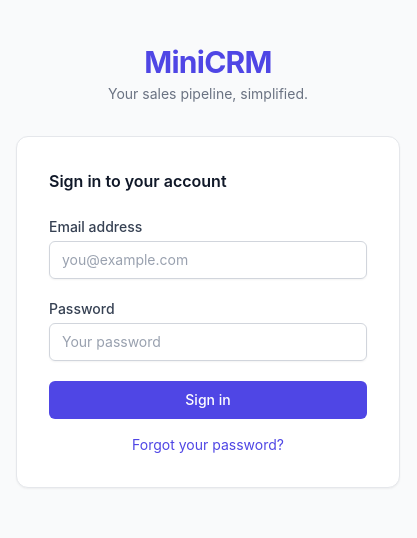
Scenario: LoginPage › shows an error alert on invalid credentials
The width and height of the screenshot is (417, 538).
Step 1. Type "wrong@example.com" into the field with test id "login-email" → (208, 260), box [49,241,367,279]
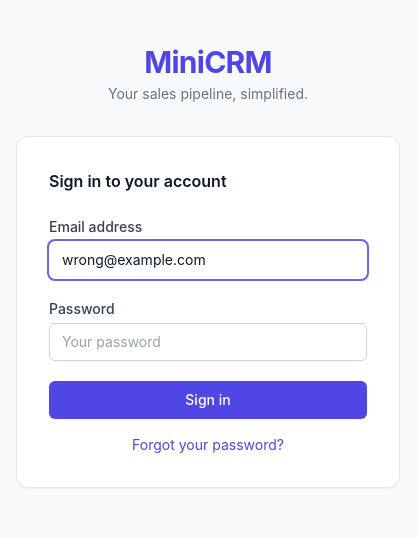
Step 2. Type "wrong-password" into the password field with test id "login-password" → (208, 342), box [49,323,367,361]
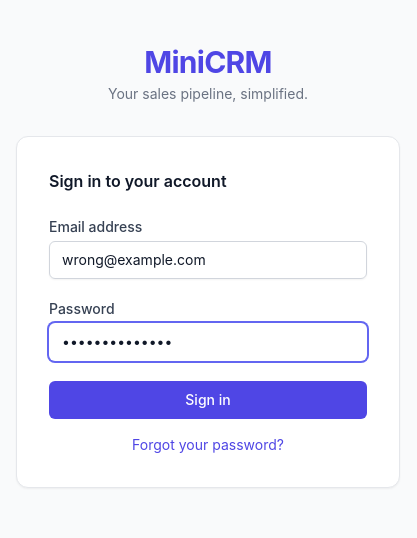
Step 3. Click the button with test id "login-submit" → (208, 400), box [49,381,367,419]
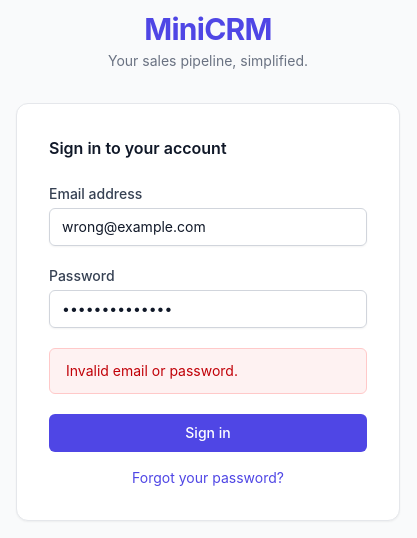
Result: the message "Invalid email or password." is shown at [49,348,367,394]
Result: the message reads "Invalid email or password." at [66,362,238,379]
